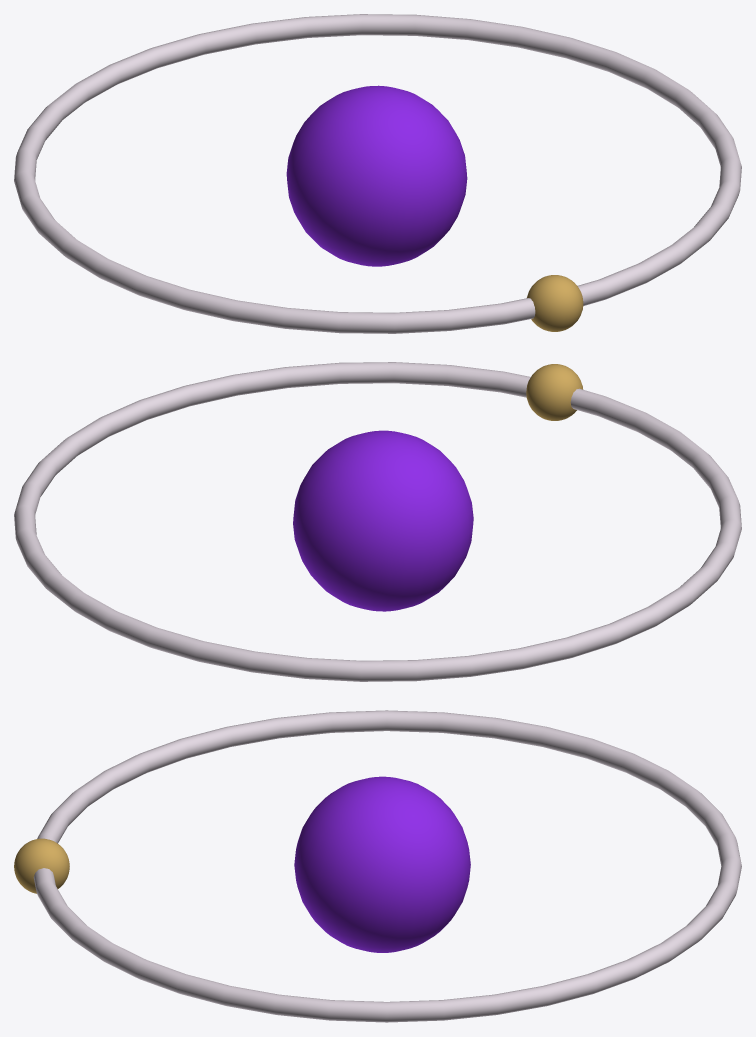
File: hidrogenio.glb
3 views of the same model, one above another, from view 1: azimuth 30°, elevation 25°; view 2: azimuth 150°, elevation 25°; view 3: azimuth 270°, elevation 25° (orthographic). The views are drawn at different scales.
Visible parts, largest first — view 1: Orbita_1, Nucleo_Completo, Eletron_1; view 2: Orbita_1, Nucleo_Completo, Eletron_1; view 3: Orbita_1, Nucleo_Completo, Eletron_1.
Boxes of the visible parts, <box> form: Orbita_1: <box>14,14,741,333</box>; Nucleo_Completo: <box>286,85,467,266</box>; Eletron_1: <box>527,275,583,331</box>; Orbita_1: <box>14,362,741,681</box>; Nucleo_Completo: <box>293,430,473,611</box>; Eletron_1: <box>526,364,583,420</box>; Orbita_1: <box>33,710,741,1022</box>; Nucleo_Completo: <box>294,776,470,952</box>; Eletron_1: <box>14,838,69,893</box>.
Bounding box in the file's own units: 2.06 × 0.512 × 2.11.
